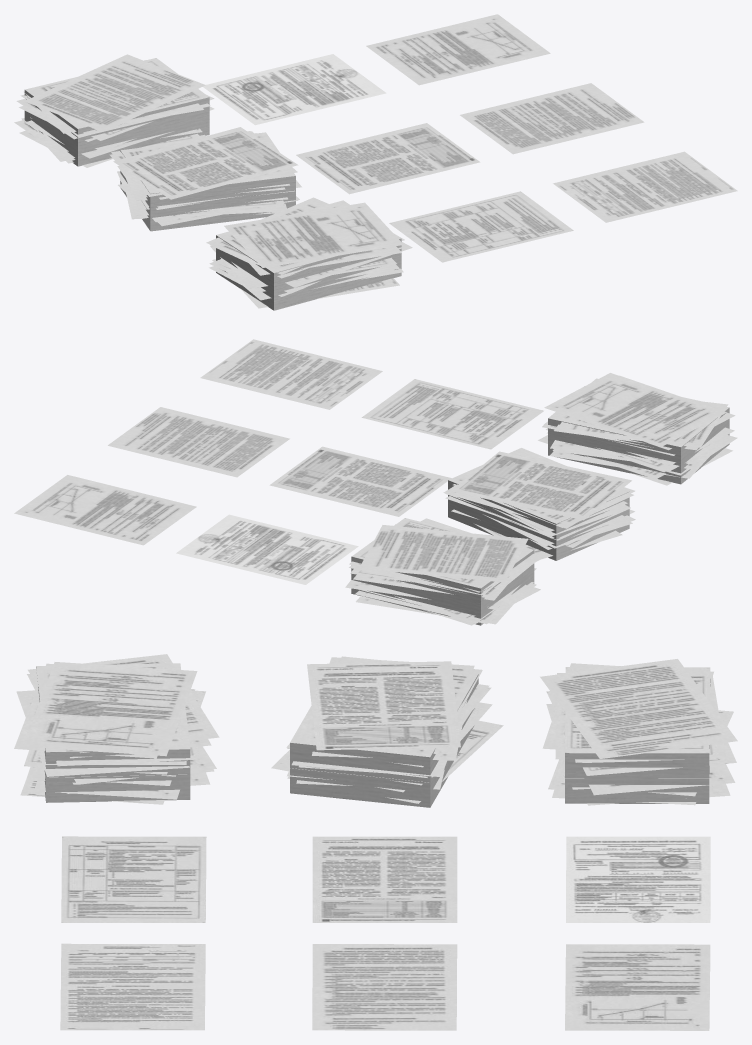
File: papers-set.glb
3 renders of one model, top to bottom at view 1: azimuth 30°, elevation 25°; view 2: azimuth 150°, elevation 25°; view 3: azimuth 270°, elevation 25°, orthographic. The views are drawn at different scales.
Visible parts, largest first — view 1: Object_2; view 2: Object_2; view 3: Object_2.
Part boxes in pixels (x1,y1,x2,y2): Object_2: (14,14,737,310); Object_2: (14,339,737,625); Object_2: (14,654,737,1030).
Bounding box in the file's own units: 24.02 × 1.89 × 22.58.
1 material, 1 textured.
